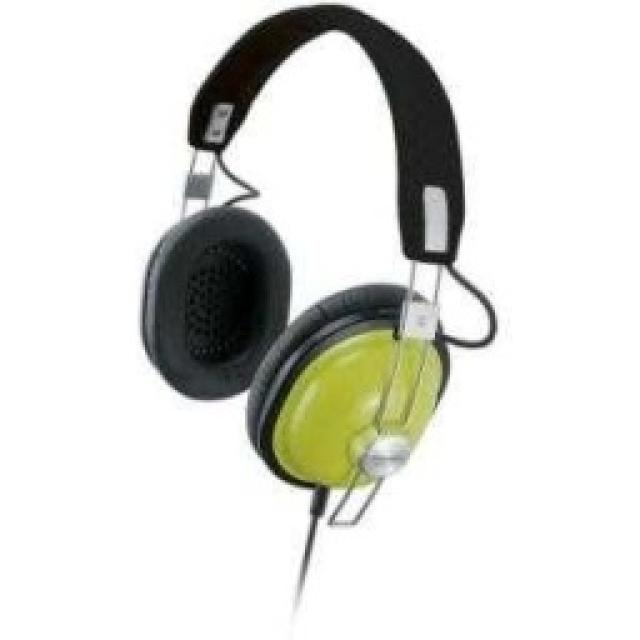headphones: (137, 0, 475, 500)
